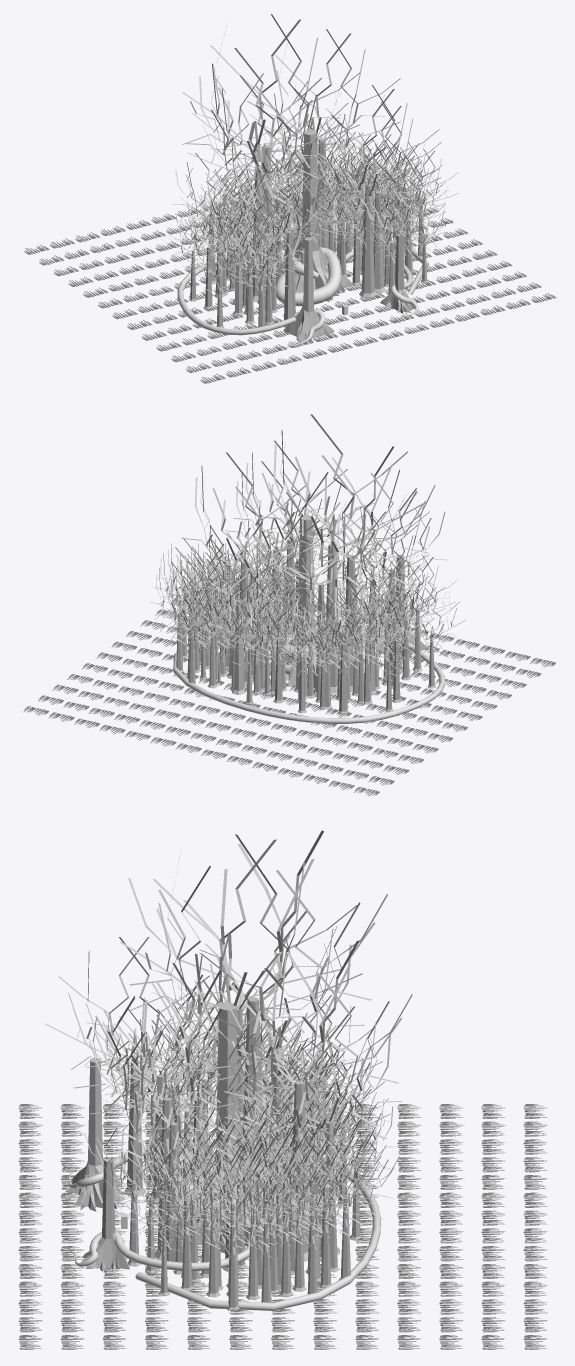
The model's file is CONCEPT_cutscene.fbx.
3 views of the same model, one above another, from view 1: azimuth 30°, elevation 25°; view 2: azimuth 150°, elevation 25°; view 3: azimuth 270°, elevation 25° (orthographic). The views are drawn at different scales.
Parts seen in each view (by area): view 1: Plane.006, NurbsPath, Cube.053, Cube.020, Cube.040, Cube.134, Cube.065, Cube.035, Cube.039, Cube.037, Cube.019, Cube.047 (+31 smaller); view 2: Plane.006, Cube.053, Cube.020, Cube.065, NurbsPath, Cube.019, Cube.010, Cube.040, Cube.134, Cube.039, Cube.024, Cube.035 (+49 smaller); view 3: Plane.006, Cube.053, Cube.065, NurbsPath, Cube.040, Cube.020, Cube.035, Cube.039, Cube.134, Cube.019, Cube.037, Cube.010 (+44 smaller).
Part boxes in pixels (box(x1,y1,x2,y2)): Plane.006: box(24, 166, 556, 383); NurbsPath: box(177, 235, 428, 348); Cube.053: box(182, 14, 359, 275); Cube.020: box(187, 48, 347, 301); Cube.040: box(305, 85, 439, 298); Cube.134: box(275, 129, 353, 301); Cube.065: box(251, 29, 400, 248); Cube.035: box(321, 102, 441, 293); Cube.039: box(234, 151, 350, 327); Cube.037: box(283, 237, 334, 343); Cube.019: box(187, 73, 329, 222); Cube.047: box(240, 150, 346, 315); Plane.006: box(23, 579, 555, 796); Cube.053: box(261, 414, 429, 693); Cube.020: box(268, 446, 435, 691); Cube.065: box(181, 452, 325, 686); NurbsPath: box(173, 613, 448, 723); Cube.019: box(251, 492, 390, 696); Cube.010: box(181, 525, 295, 694); Cube.040: box(233, 440, 363, 636); Cube.134: box(269, 514, 316, 688); Cube.039: box(331, 488, 447, 653); Cube.024: box(299, 585, 384, 714); Cube.035: box(225, 461, 342, 650); Plane.006: box(18, 1104, 547, 1349); Cube.053: box(128, 830, 387, 1189); Cube.065: box(194, 940, 412, 1261); NurbsPath: box(65, 1139, 380, 1310); Cube.040: box(72, 970, 269, 1259); Cube.020: box(120, 834, 362, 1163); Cube.035: box(89, 1009, 265, 1261); Cube.039: box(45, 937, 216, 1196); Cube.134: box(197, 1002, 261, 1253); Cube.019: box(175, 911, 364, 1196); Cube.037: box(64, 1058, 124, 1211); Cube.010: box(242, 1006, 401, 1254).
Size of the model in its own units: 8904 by 6101 by 8268.
